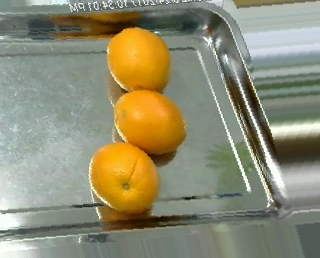Orange: (89, 141, 161, 212), (112, 89, 189, 155), (106, 26, 171, 95)
